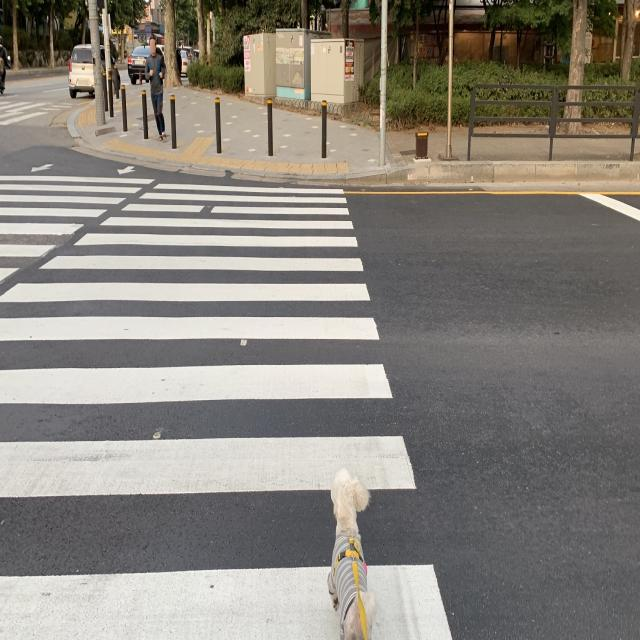횡단보도: (0, 163, 456, 640)
